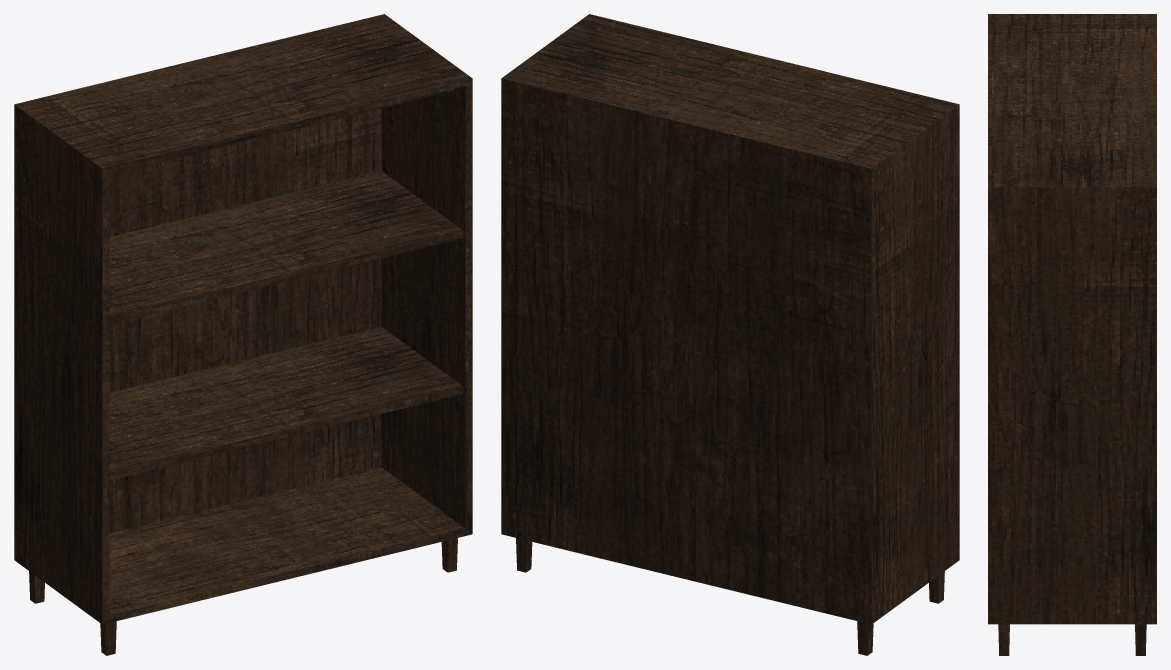
The model's file is shelf_mp_3_1.glb.
3 renders of one model, left to right at view 1: azimuth 30°, elevation 25°; view 2: azimuth 150°, elevation 25°; view 3: azimuth 270°, elevation 25°, orthographic. The views are drawn at different scales.
Parts seen in each view (by area): view 1: shelf_mp_3_1; view 2: shelf_mp_3_1; view 3: shelf_mp_3_1.
Boxes of the visible parts, bbox=[...] form: shelf_mp_3_1: bbox=[14, 14, 472, 655]; shelf_mp_3_1: bbox=[501, 14, 959, 655]; shelf_mp_3_1: bbox=[988, 14, 1156, 655].
Bounding box in the file's own units: 1.02 × 1.3 × 0.42.
1 material, 1 textured.
